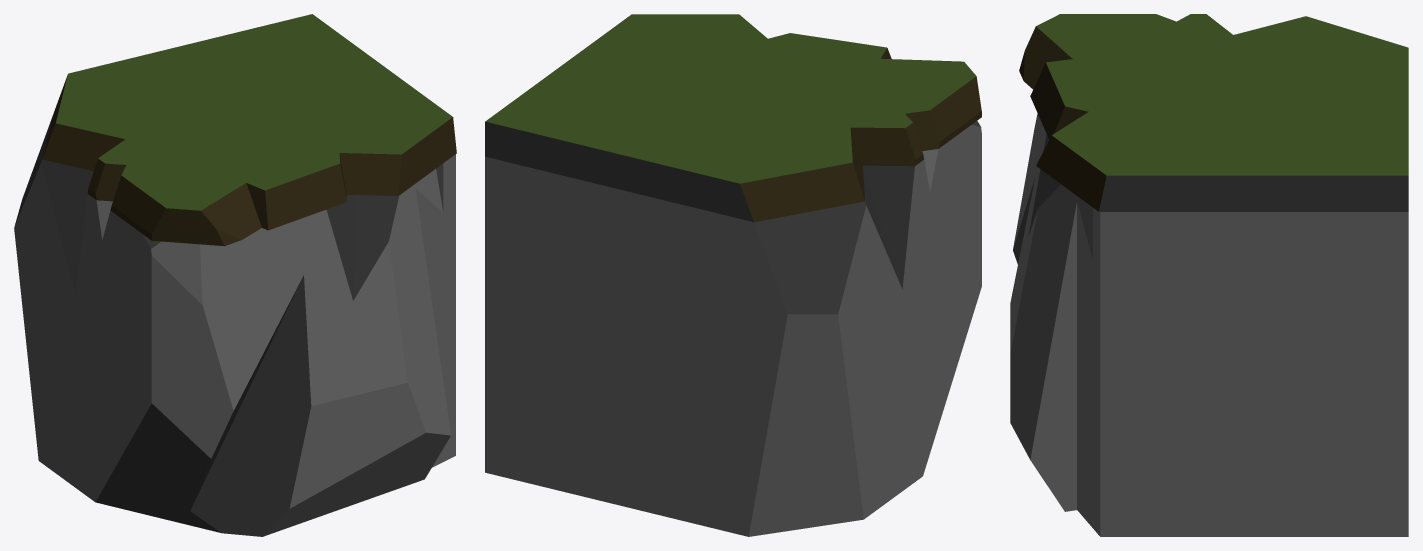
Rendered from E_Rockwall02.fbx.
The picture shows the model from 3 angles, left to right: view 1: azimuth 30°, elevation 25°; view 2: azimuth 150°, elevation 25°; view 3: azimuth 270°, elevation 25°; orthographic projection. The views are drawn at different scales.
Visible parts, largest first — view 1: E_Rockwall02; view 2: E_Rockwall02; view 3: E_Rockwall02.
Boxes of the visible parts, box(x1,y1,x2,y2) form: E_Rockwall02: box(14, 14, 456, 536); E_Rockwall02: box(485, 14, 981, 536); E_Rockwall02: box(1010, 14, 1408, 536).
Bounding box in the file's own units: 99 × 100 × 100.
